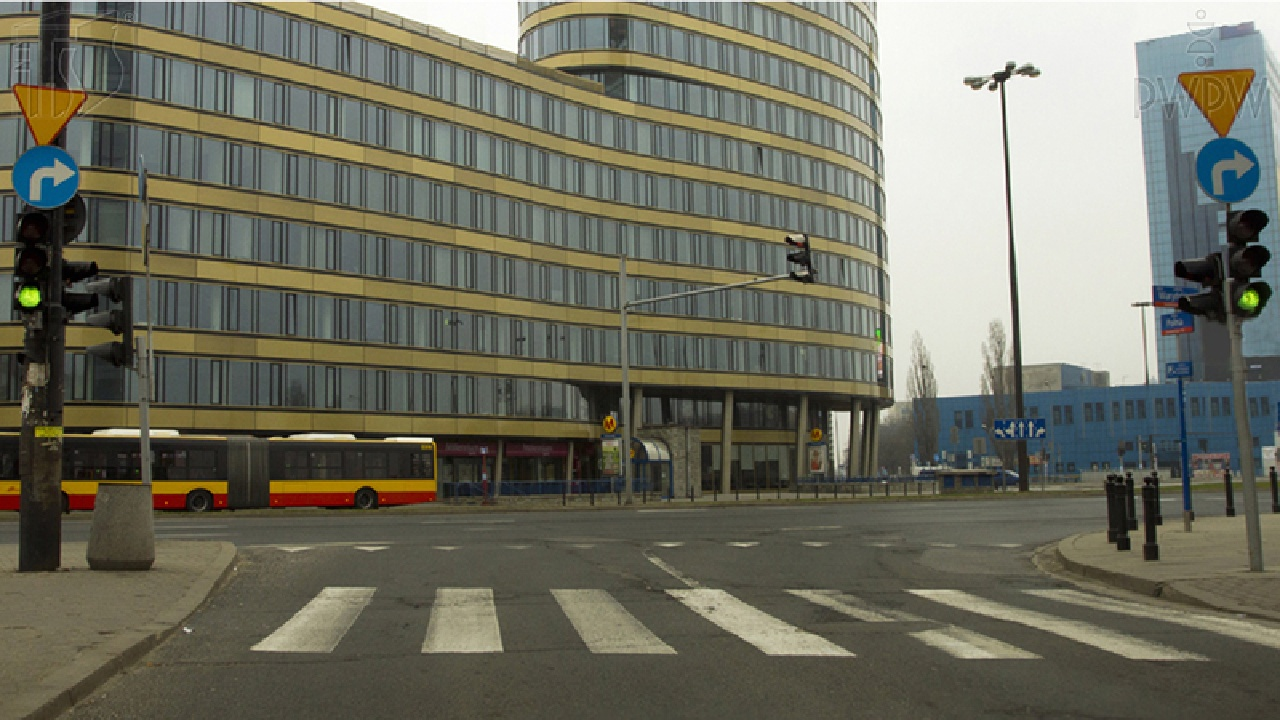A7: (1180, 67, 1257, 141), (13, 84, 89, 154)
C2: (1193, 139, 1261, 204), (12, 145, 81, 208)
Green: (1231, 211, 1264, 318), (19, 209, 44, 313)
